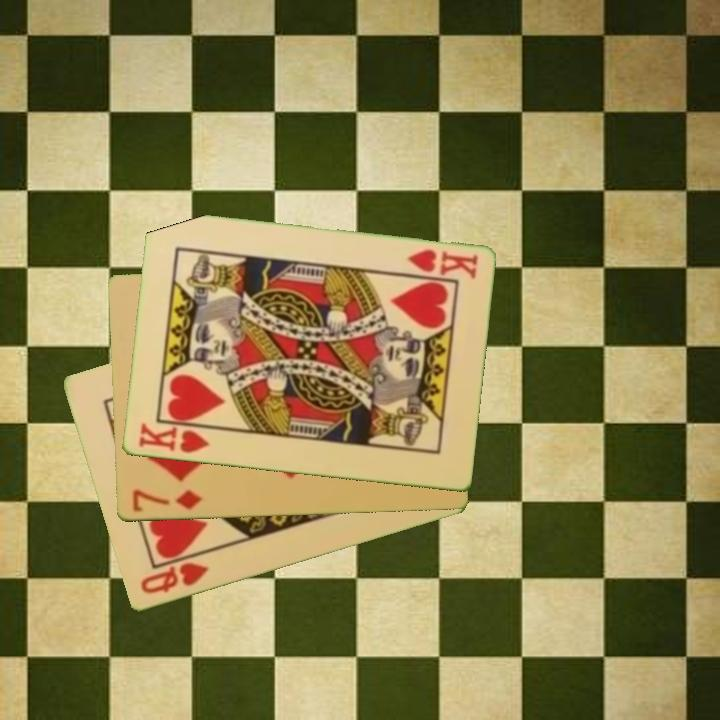7d: (128, 486, 205, 515)
Kh: (134, 419, 218, 457), (403, 246, 480, 283)
Qh: (137, 559, 211, 598)
